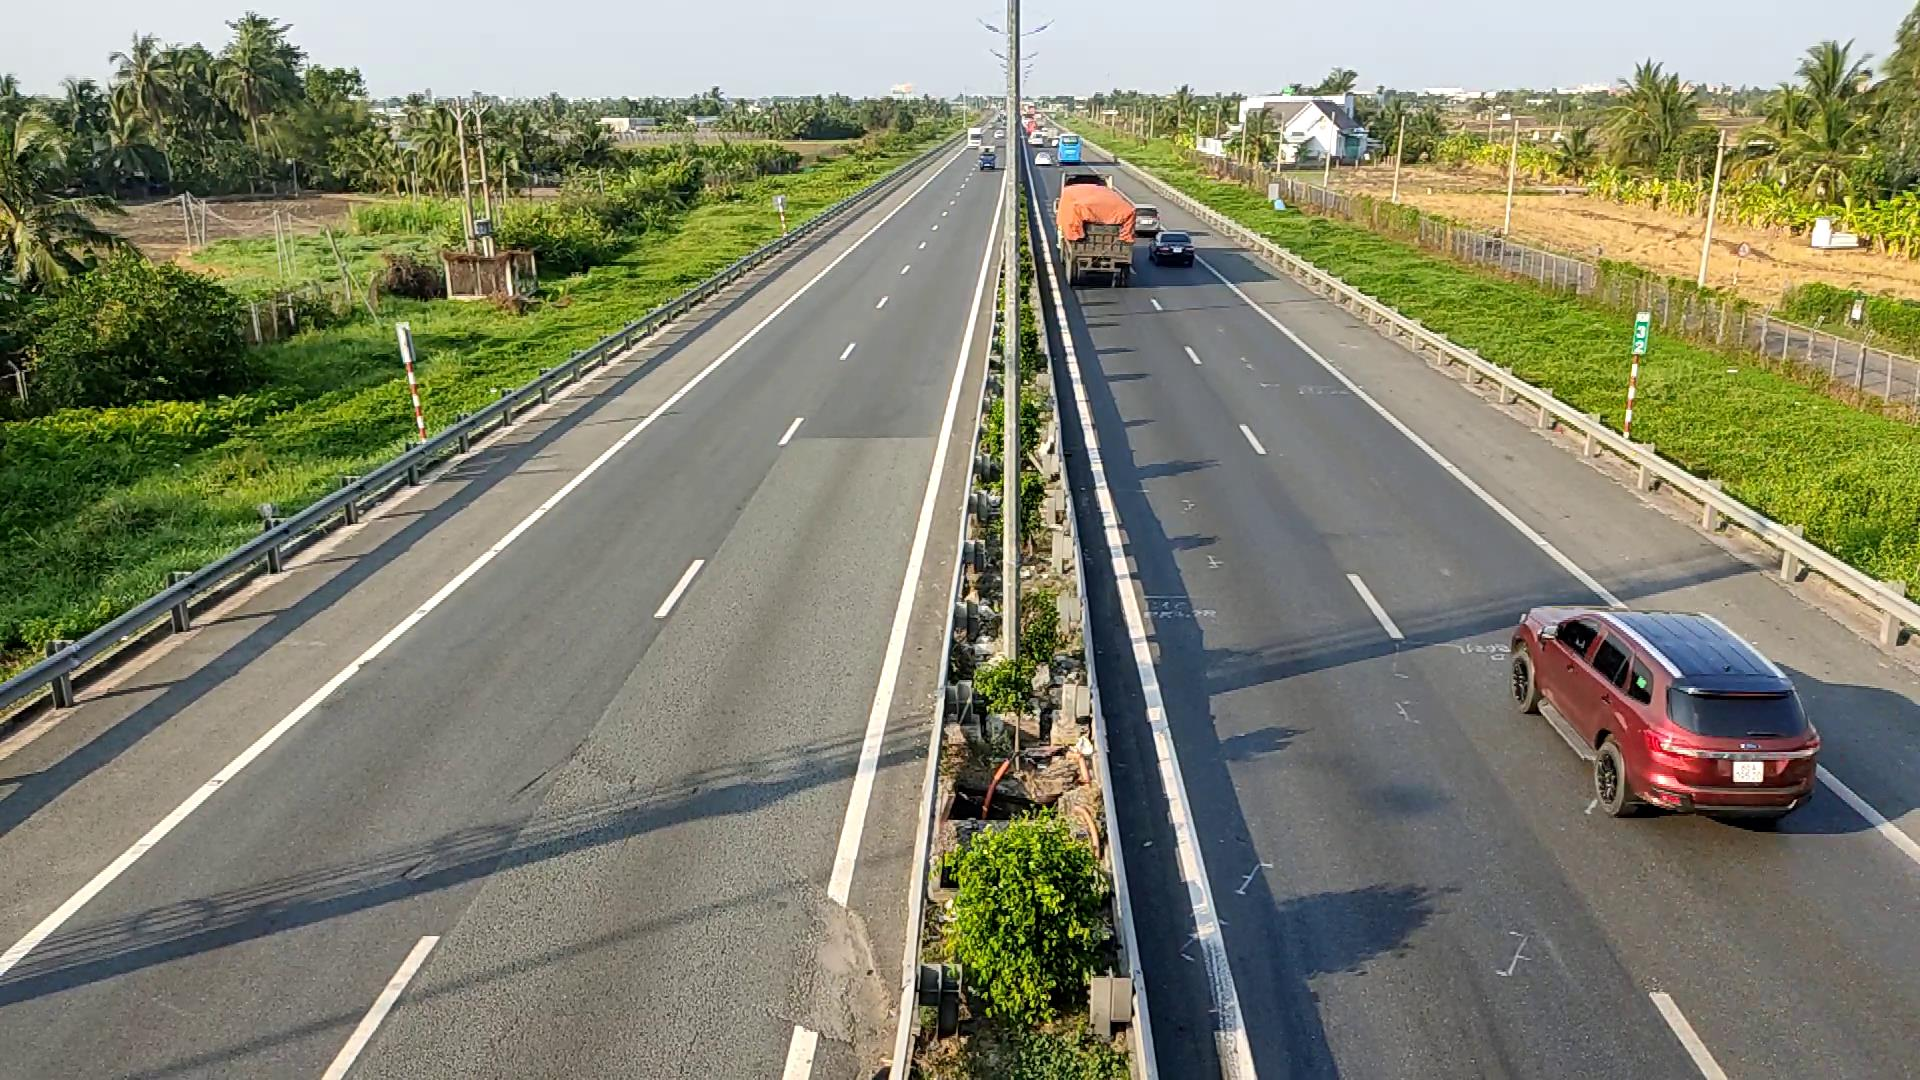car: (1507, 601, 1824, 824), (1149, 229, 1193, 266)
truck: (1055, 181, 1137, 286)
